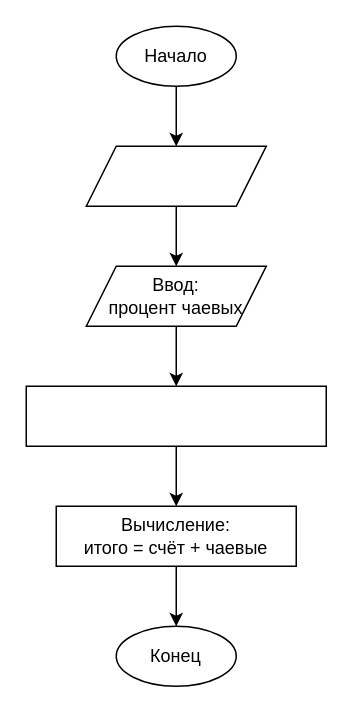
Image size: 353x713. Some labels were removed from this diagram. The shapes that lost their labels are listed below. From the top down, each one's centre as x and y in pixels, then its label:
(x=175, y=175): Ввод: сумма счёта
(x=175, y=415): Вычисление: чаевые = счет * процент / 100
